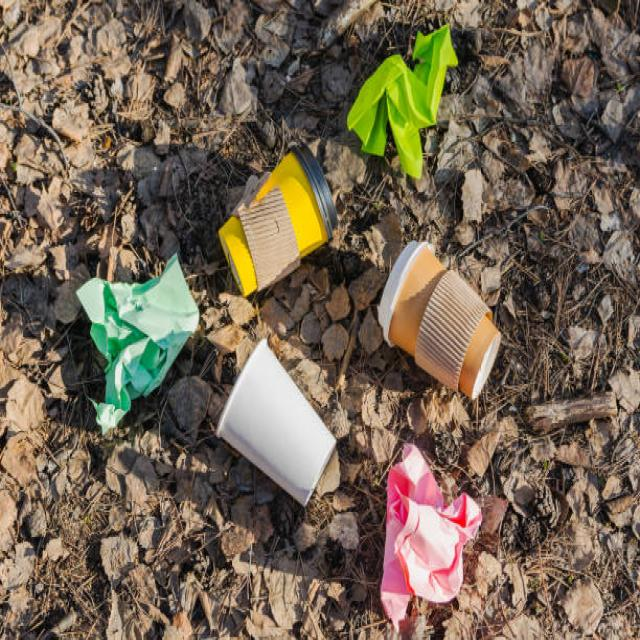paper: (78, 242, 194, 432), (380, 444, 474, 596)
plastic: (224, 144, 341, 529)
